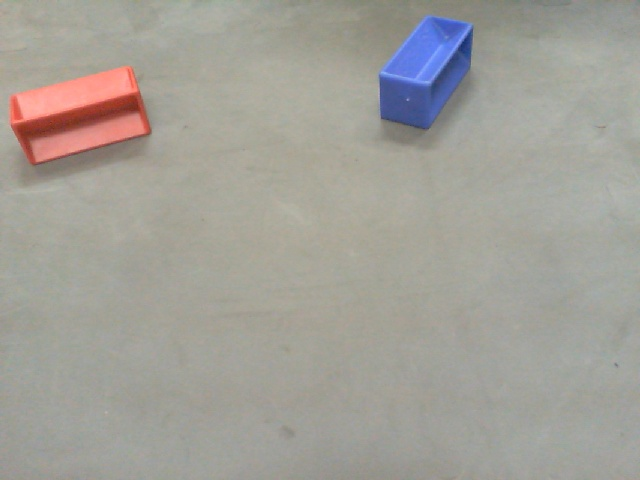BlueSample: (372, 13, 479, 133)
RedSample: (1, 62, 152, 175)
